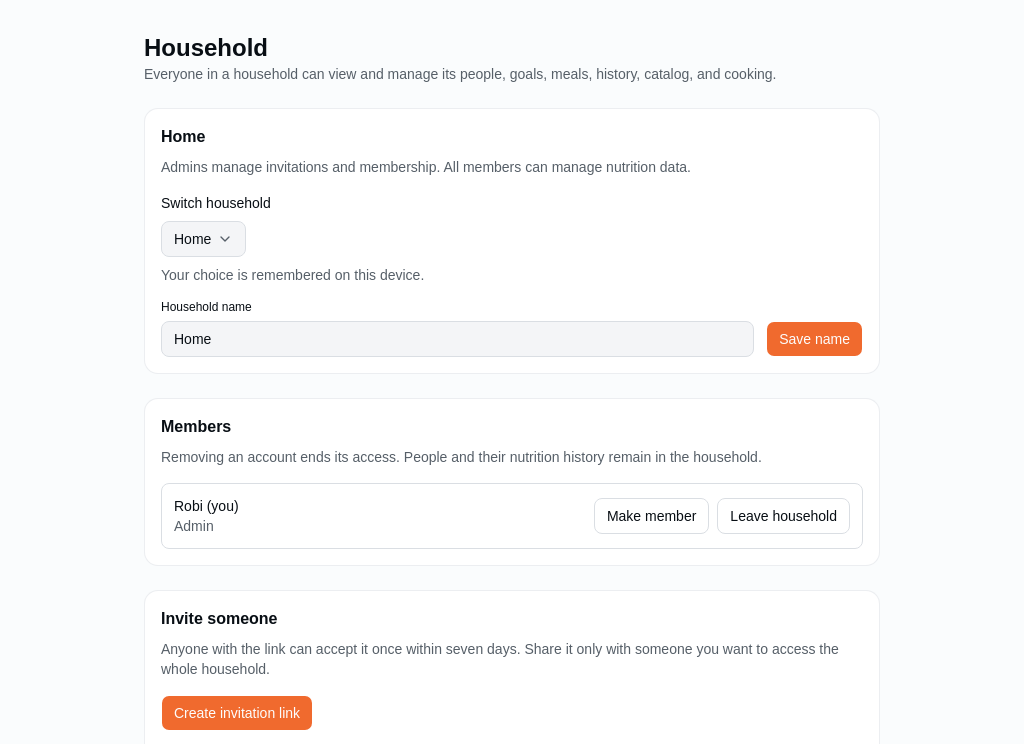
Scenario: household settings › shows actionable membership errors without deleting history
The image size is (1024, 744).
Click the button "Make member" at x=652, y=516, box [594,498,709,534]
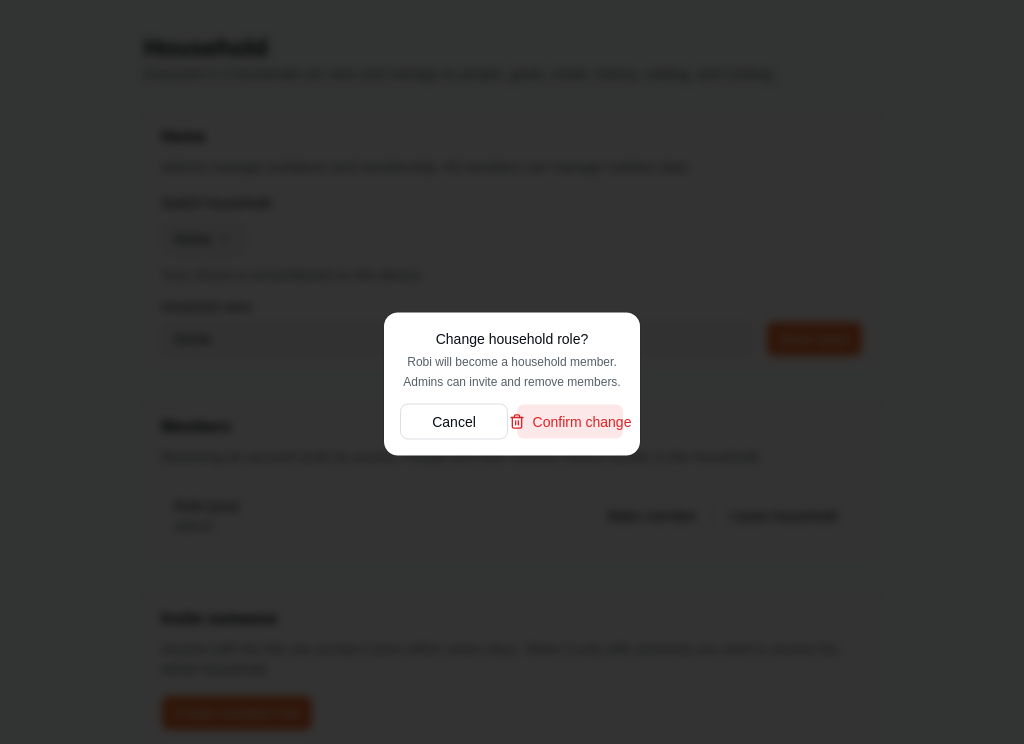
Click the button "Confirm change" at x=570, y=422, box [516,404,624,440]
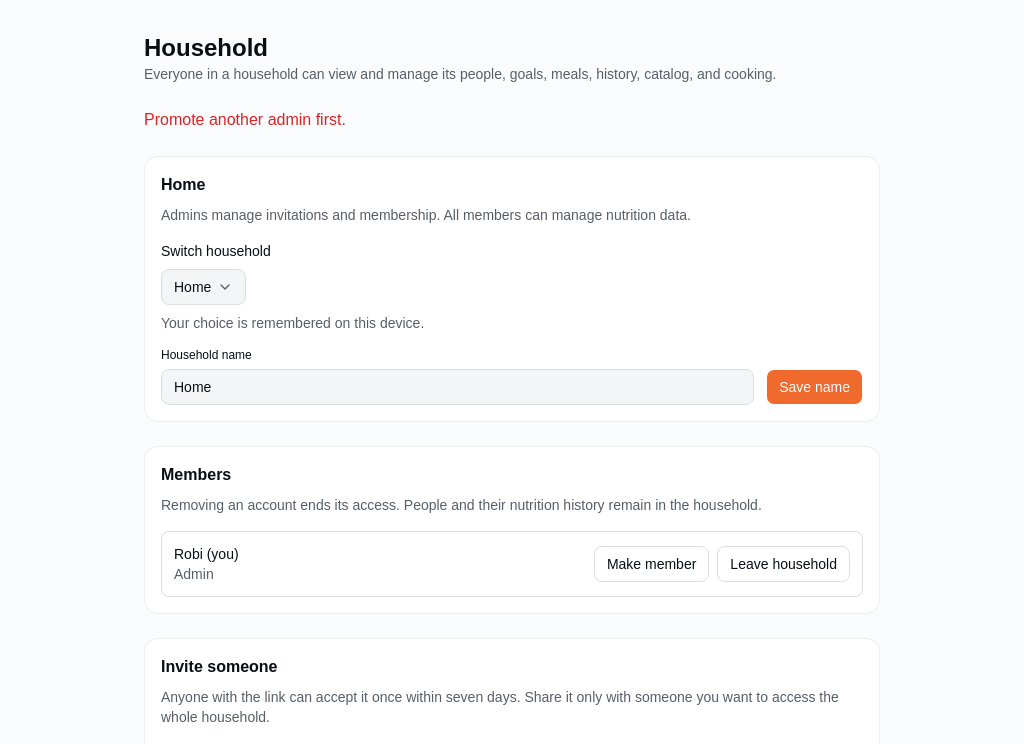
Expected: the message reads "Promote another admin first.", [144,111,346,128]
